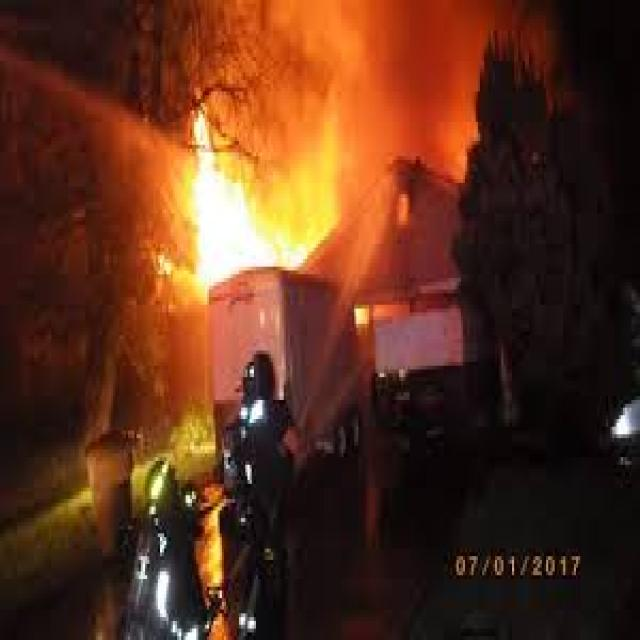Fire: (164, 97, 348, 312)
